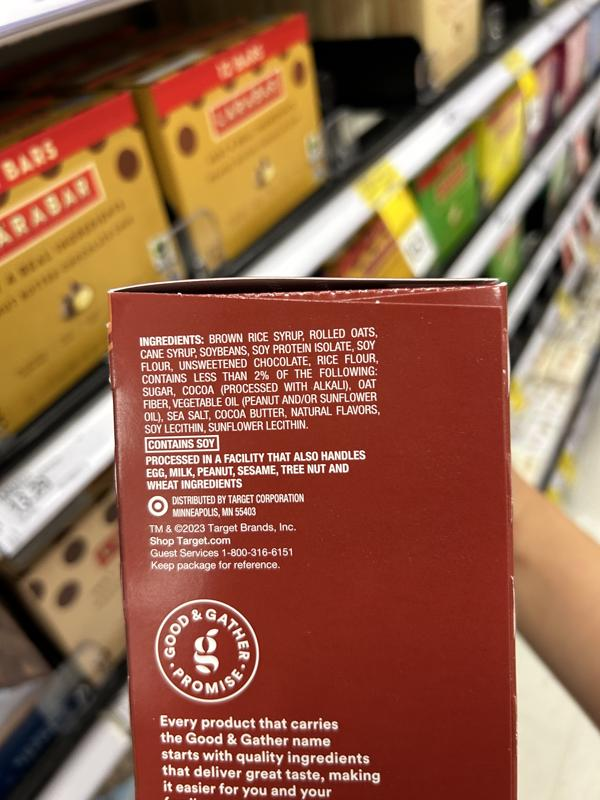ingredients: (136, 325, 384, 437)
